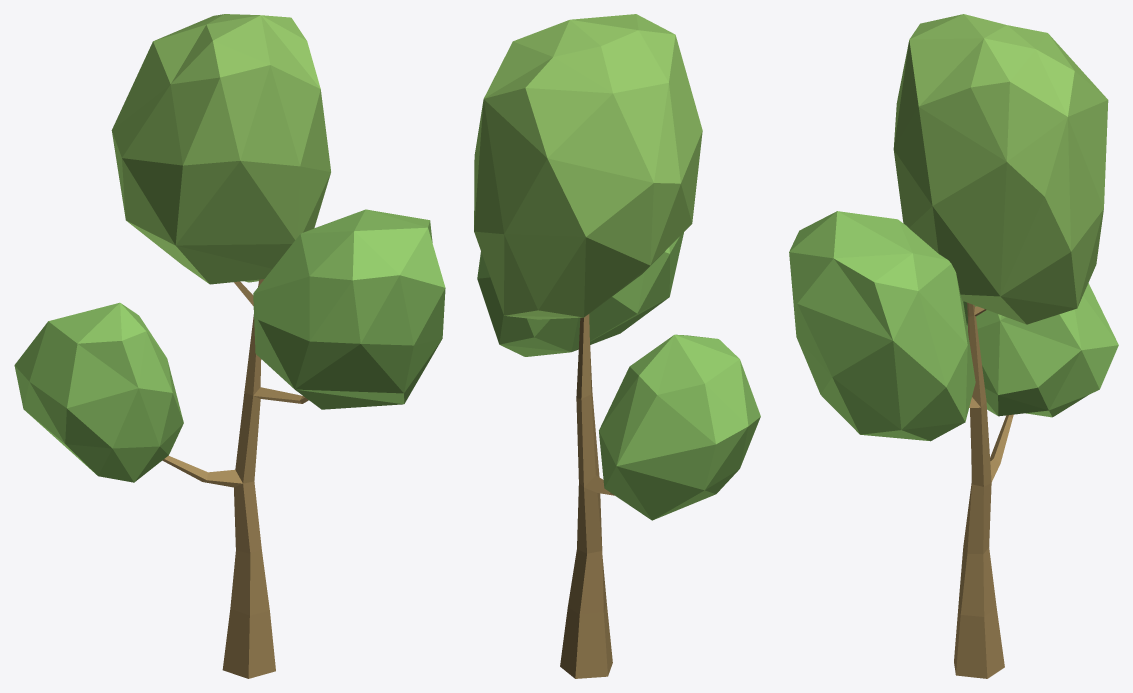
The model's file is Oak_Tree_m_07_LOD.fbx.
3 renders of one model, left to right at view 1: azimuth 30°, elevation 25°; view 2: azimuth 150°, elevation 25°; view 3: azimuth 270°, elevation 25°, orthographic.
Visible parts, largest first — view 1: Oak_Tree_m_07_LOD0; view 2: Oak_Tree_m_07_LOD0; view 3: Oak_Tree_m_07_LOD0.
Boxes of the visible parts, bbox=[...] form: Oak_Tree_m_07_LOD0: bbox=[14, 14, 445, 678]; Oak_Tree_m_07_LOD0: bbox=[474, 14, 760, 678]; Oak_Tree_m_07_LOD0: bbox=[789, 14, 1118, 678].
Size of what is drawn, in the model's own units: 462 by 857 by 402.
